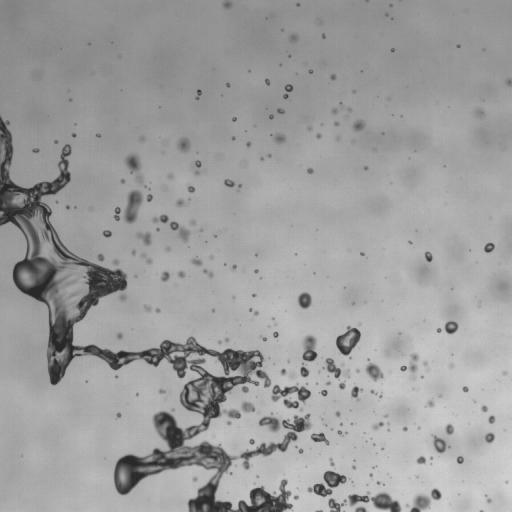droplet: (271, 383, 310, 410), (336, 326, 360, 356), (400, 353, 418, 379), (365, 359, 383, 381), (302, 335, 317, 361), (432, 435, 447, 453), (297, 292, 311, 308), (136, 232, 151, 245), (444, 321, 458, 334), (177, 138, 189, 152), (350, 386, 362, 399), (241, 401, 255, 412), (152, 214, 168, 223), (352, 120, 364, 131), (300, 363, 309, 377), (273, 134, 285, 143), (484, 242, 494, 252), (485, 432, 494, 442), (475, 108, 484, 117), (224, 179, 234, 187), (161, 271, 169, 281), (445, 424, 453, 434), (191, 258, 202, 265), (372, 422, 383, 429), (425, 399, 434, 407), (425, 251, 432, 261), (416, 456, 426, 463), (223, 0, 231, 8), (102, 230, 111, 237), (290, 34, 297, 42), (176, 199, 184, 206), (488, 415, 495, 423), (339, 380, 345, 389), (97, 254, 104, 261), (144, 305, 151, 312), (187, 186, 195, 192), (177, 271, 185, 277), (195, 160, 201, 167), (146, 194, 152, 201), (119, 294, 126, 300), (251, 309, 258, 315), (320, 390, 327, 396), (457, 456, 463, 463), (462, 386, 468, 392), (481, 405, 487, 411), (506, 79, 511, 86), (277, 108, 284, 113), (307, 168, 313, 173), (113, 260, 119, 265), (330, 74, 335, 79), (332, 108, 337, 113), (316, 133, 321, 138), (194, 170, 199, 175), (190, 220, 195, 225), (117, 333, 122, 338), (273, 332, 278, 337), (261, 336, 266, 341), (249, 439, 254, 444), (33, 148, 39, 152), (370, 390, 376, 394), (337, 430, 343, 434), (265, 79, 269, 84), (269, 114, 273, 119), (167, 174, 172, 178), (232, 265, 236, 270), (155, 308, 160, 312), (436, 328, 441, 332), (336, 411, 340, 416), (403, 426, 407, 431), (192, 477, 197, 481), (308, 69, 312, 73), (232, 117, 236, 121), (72, 133, 76, 137), (246, 142, 250, 146), (166, 247, 170, 251), (131, 250, 135, 254), (254, 269, 258, 273), (225, 338, 229, 342), (423, 361, 427, 365), (326, 381, 330, 385), (117, 413, 121, 417), (298, 449, 302, 453), (294, 495, 298, 499), (226, 83, 229, 87), (334, 122, 338, 125), (308, 126, 311, 130), (121, 179, 124, 183), (450, 364, 453, 368), (503, 371, 506, 375), (487, 498, 490, 502), (322, 34, 325, 37), (391, 48, 394, 51), (347, 108, 350, 111), (97, 134, 100, 137), (364, 166, 367, 169), (210, 255, 213, 258), (252, 294, 255, 297), (379, 394, 382, 397), (377, 481, 380, 484), (232, 137, 235, 139), (55, 140, 57, 143), (268, 154, 270, 157), (66, 206, 69, 208), (156, 228, 159, 230), (361, 252, 363, 255), (356, 369, 359, 371), (384, 415, 387, 417), (430, 457, 432, 460), (352, 466, 355, 468), (369, 474, 372, 476), (297, 3, 299, 5), (457, 45, 459, 47), (340, 103, 342, 105), (141, 138, 143, 140), (261, 157, 263, 159), (409, 241, 411, 243), (218, 341, 220, 343), (115, 375, 117, 377), (374, 466, 376, 468)
ligament: (0, 116, 308, 511), (328, 491, 401, 511), (307, 470, 347, 496), (406, 488, 441, 511), (123, 190, 142, 223), (324, 358, 350, 379), (125, 154, 143, 183), (170, 221, 190, 241), (310, 433, 329, 445), (280, 369, 296, 379), (283, 84, 292, 98), (142, 254, 152, 264), (113, 207, 120, 220), (354, 505, 368, 511), (203, 269, 213, 277), (158, 388, 168, 394), (196, 90, 201, 99), (329, 458, 334, 466), (316, 510, 322, 511), (479, 510, 482, 511)
